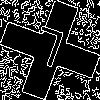L: (25, 25, 67, 78)
